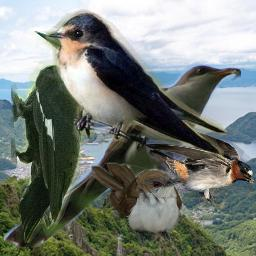Cuckoo: (4, 61, 241, 247), (91, 162, 186, 246)
Swallow: (46, 9, 227, 161), (146, 126, 254, 207)
Woodpecker: (11, 31, 119, 243)
